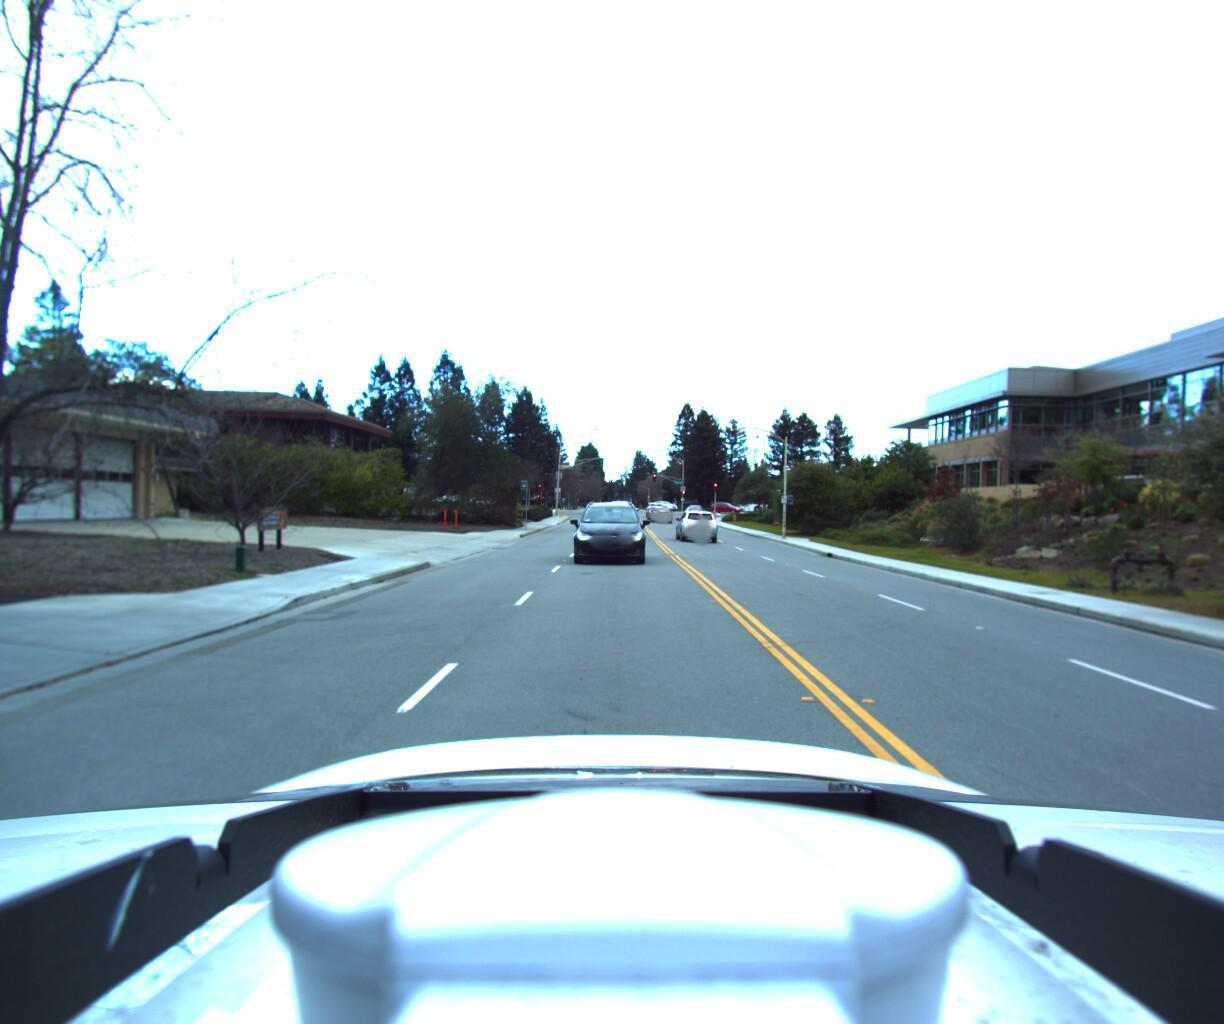car: (568, 498, 647, 570), (673, 509, 717, 542), (649, 504, 675, 521)
